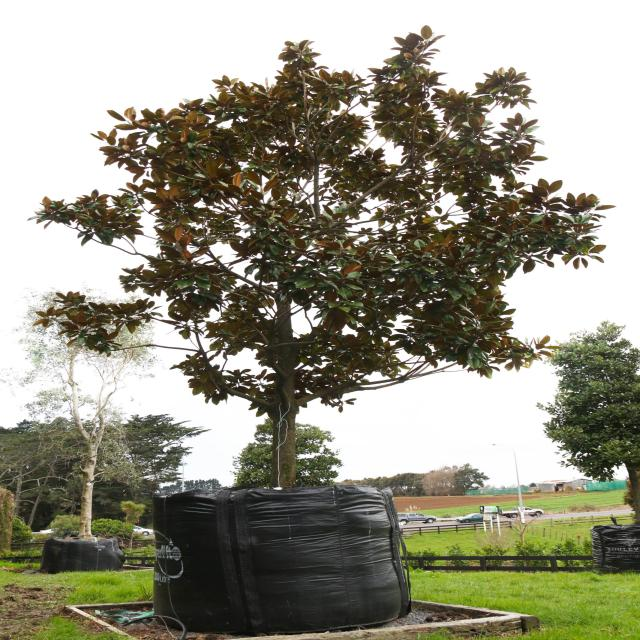Magnolia grandiflora: (72, 62, 546, 402)
